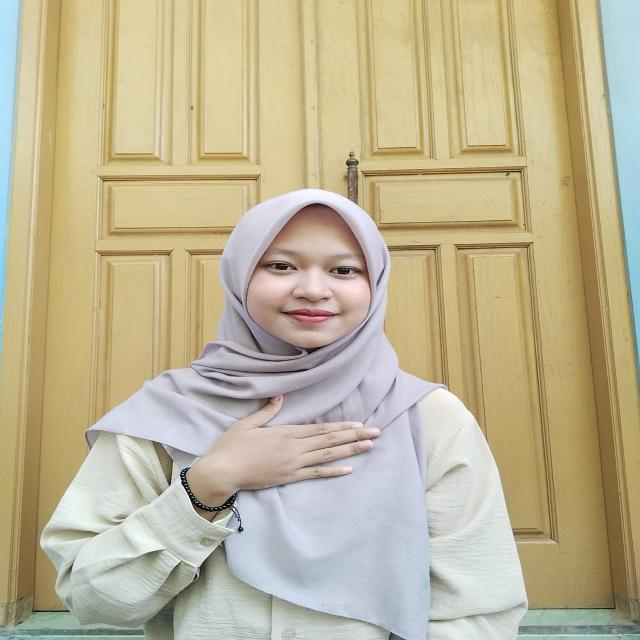tolong: (152, 388, 390, 530)
